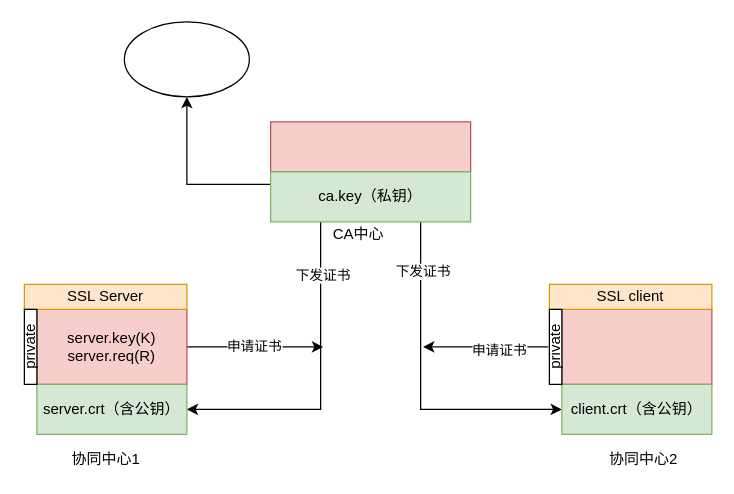
This 734x494 diagram has some shape labels left out. The shapes that lost their labels are listed below. From the top down, each one's box as (x1, y1, x2, y2) in pixels, then its label:
(123, 21, 249, 97): 审核申请信息
(269, 121, 471, 172): ca.crt（C含公钥）
(561, 308, 712, 384): client.key(K) client.req(R)
